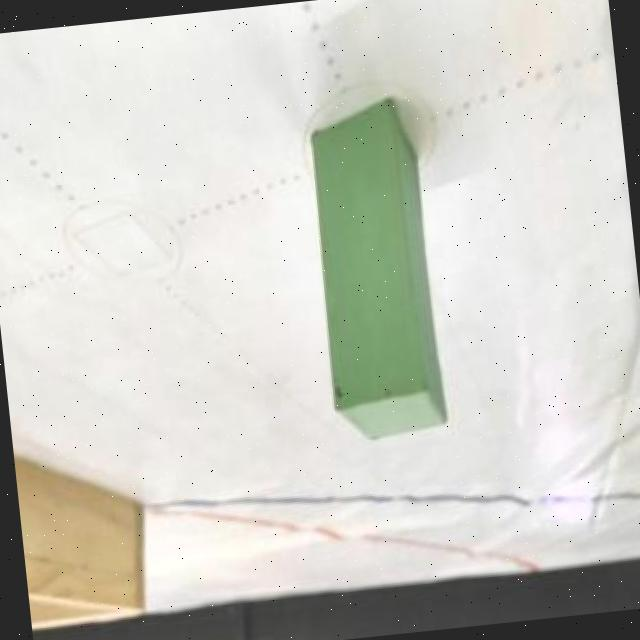greenbox: (298, 89, 451, 446)
